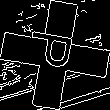P_E: (27, 32, 83, 78)
